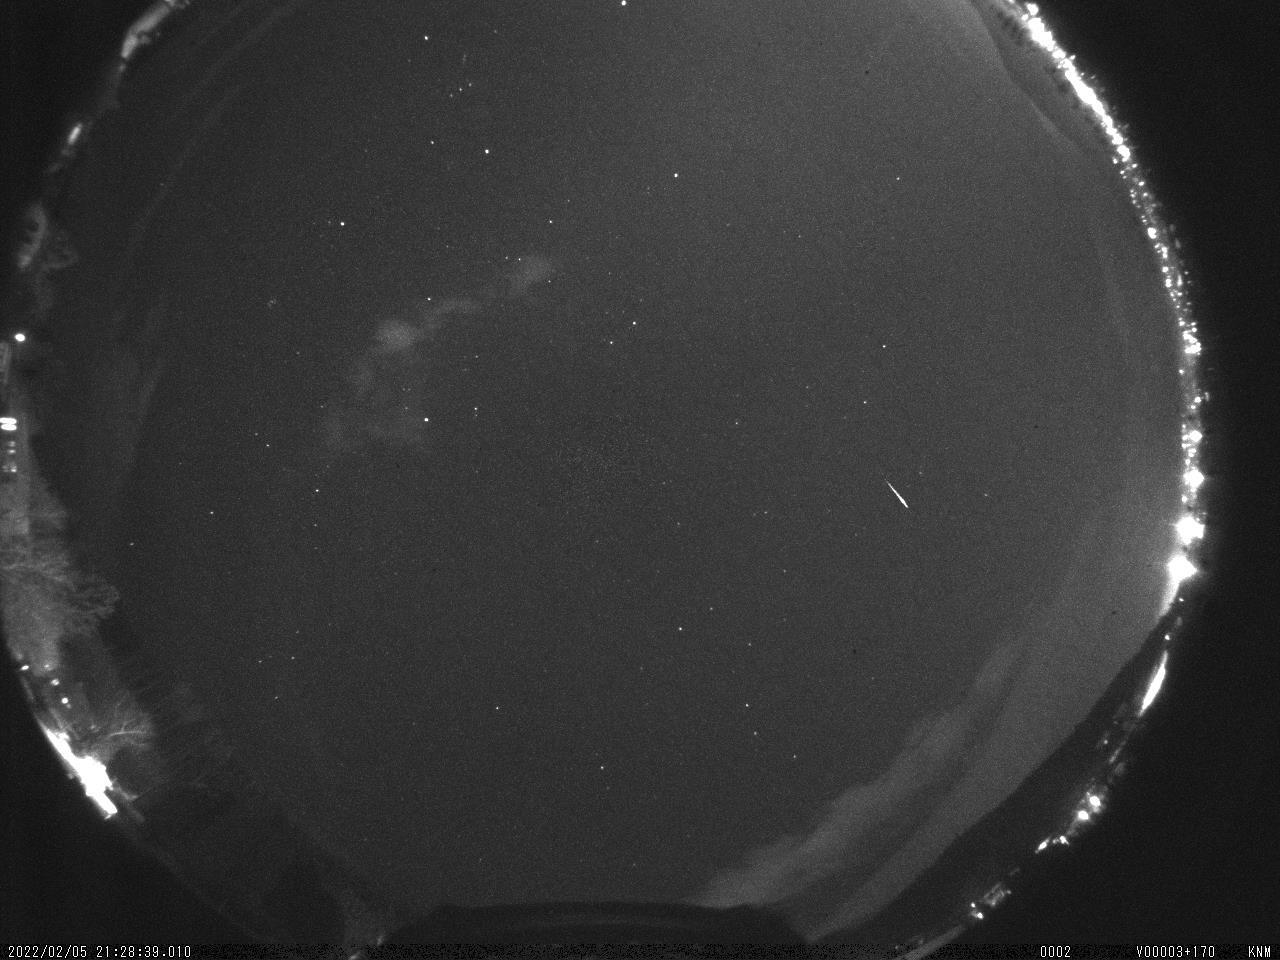Meteor: (879, 472, 914, 516)
